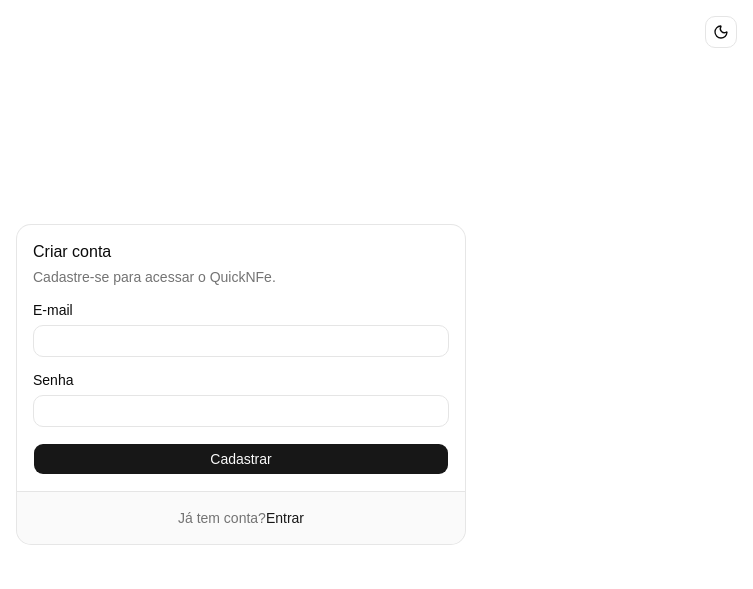
Test: RegisterPage › shows error when sign up fails
Step 1. Type "x@test.com" into the field labelled "E-mail" → (241, 340), box [33, 324, 449, 356]
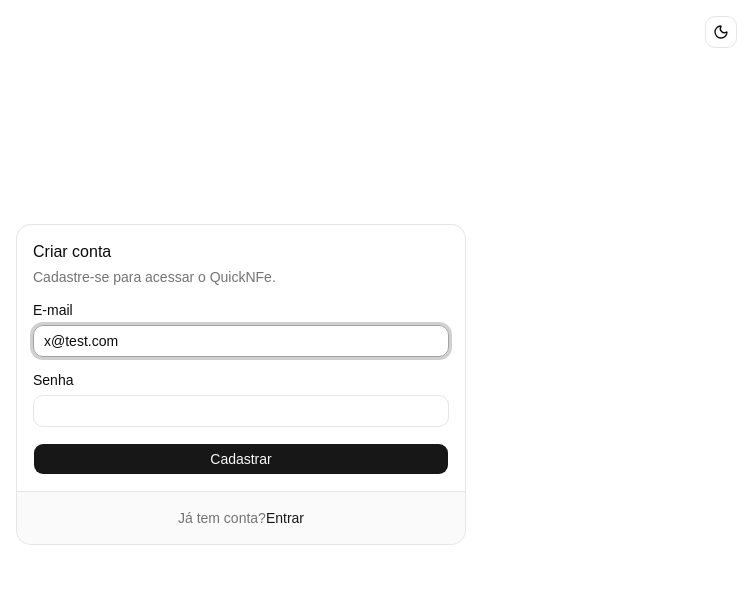
Step 2. Type "secret123" into the password field labelled "Senha" → (241, 410), box [33, 394, 449, 426]
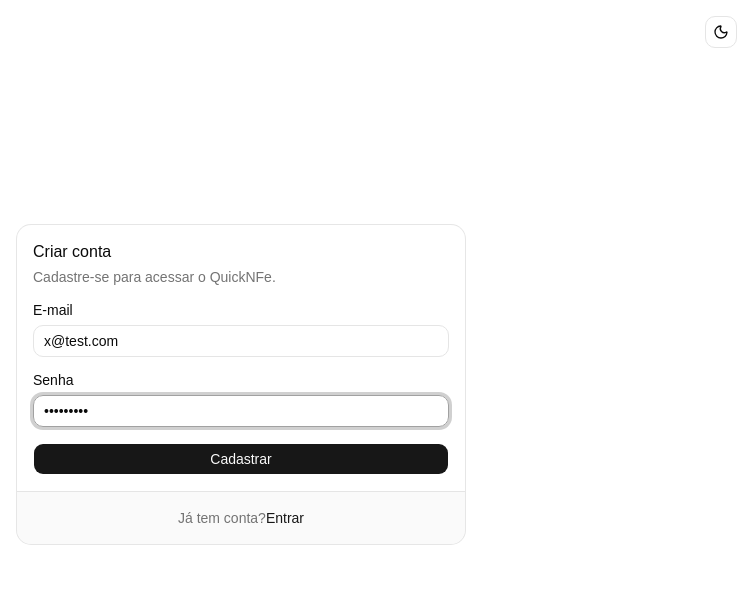
Step 3. Click the button "Cadastrar" → (241, 458), box [33, 442, 449, 474]
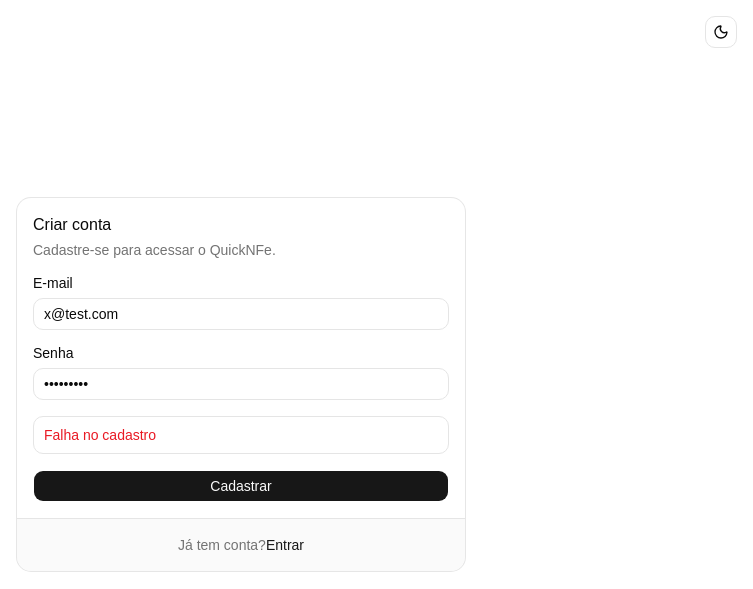
Check: the text "Falha no cadastro" is shown, box [44, 426, 156, 442]
